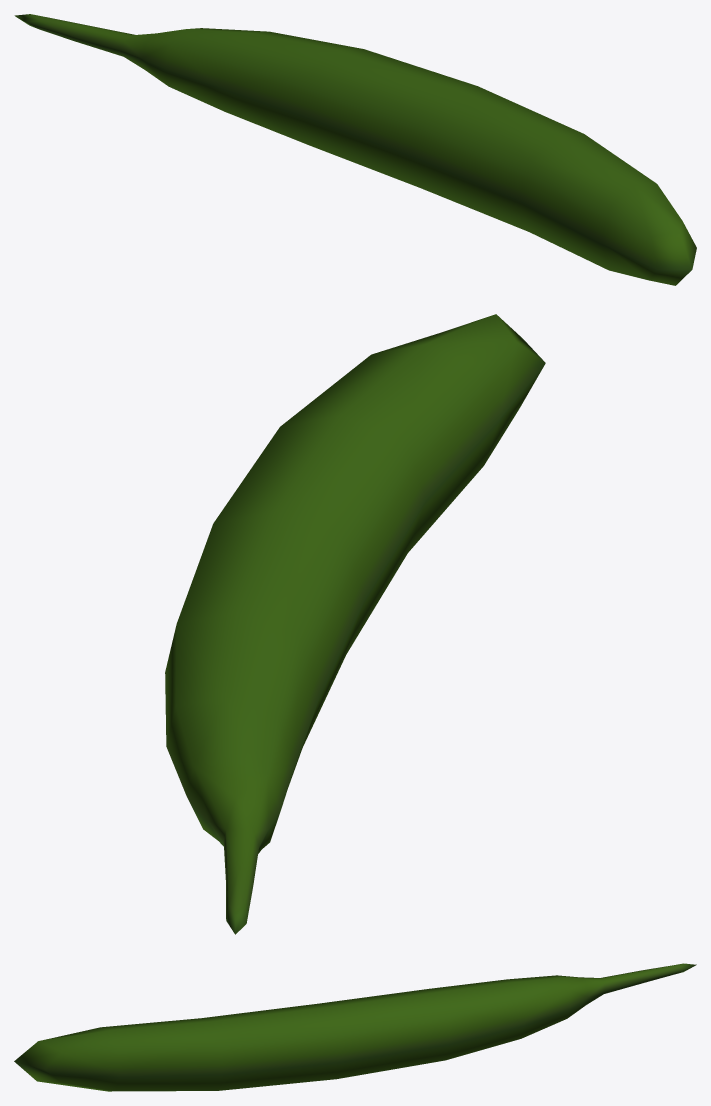
Rendered from GreenBean (3).fbx.
3 renders of one model, top to bottom at view 1: azimuth 30°, elevation 25°; view 2: azimuth 150°, elevation 25°; view 3: azimuth 270°, elevation 25°, orthographic. The views are drawn at different scales.
Parts seen in each view (by area): view 1: Apple (4); view 2: Apple (4); view 3: Apple (4).
Part boxes in pixels (<box>): Apple (4): <box>14,14,696,285</box>; Apple (4): <box>165,314,545,934</box>; Apple (4): <box>14,963,696,1091</box>.
Size of the model in its own units: 0.5606 by 0.1772 by 1.47.
